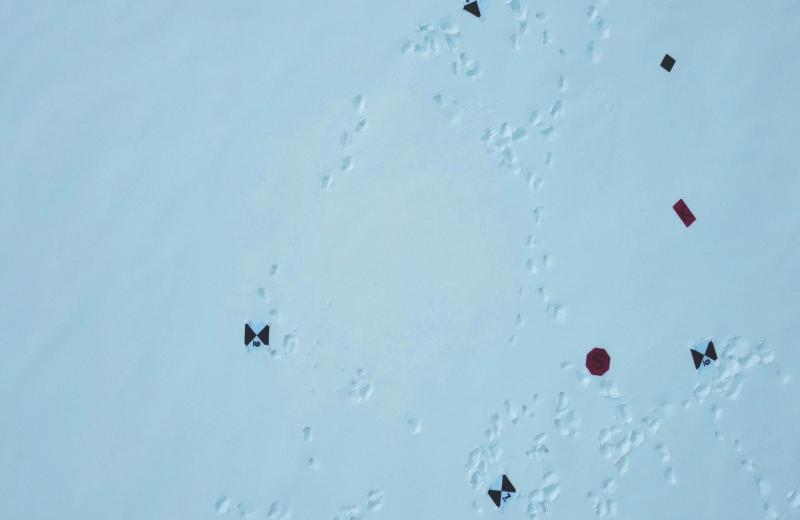Octagon: (582, 345, 612, 379)
Rectangle: (671, 196, 697, 234)
Square: (657, 52, 680, 75)
